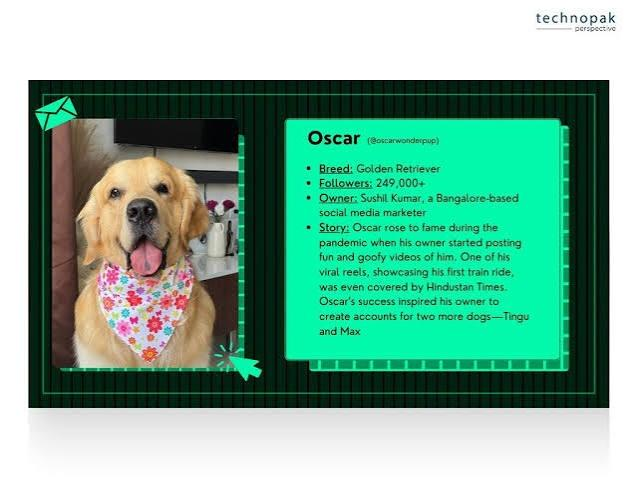adult_dog: (71, 155, 217, 371)
